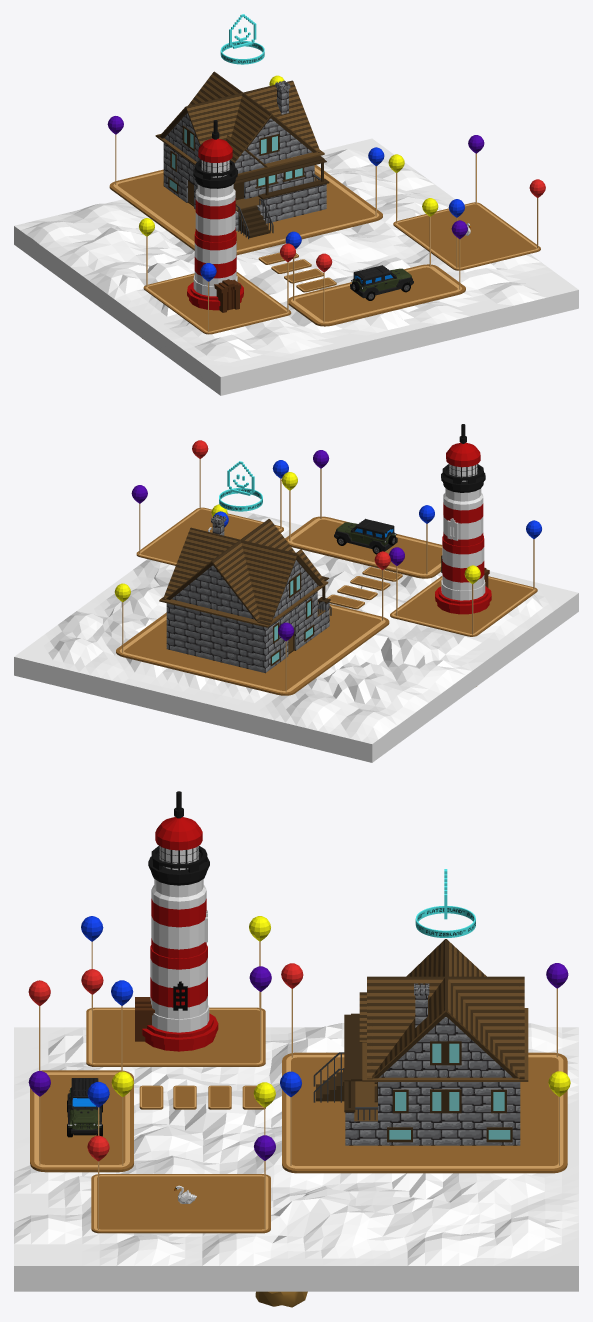
3 renders of one model, top to bottom at view 1: azimuth 30°, elevation 25°; view 2: azimuth 150°, elevation 25°; view 3: azimuth 270°, elevation 25°, orthographic. The views are drawn at different scales.
Visible parts, largest first — view 1: Cube.013, Cube.586, OBJRANDOM_LIGHTHOUSE, VEHICLES_JEEP, TYPE_PREMIUM; view 2: Cube.013, Cube.586, OBJRANDOM_LIGHTHOUSE, VEHICLES_JEEP, TYPE_PREMIUM; view 3: Cube.013, Cube.586, OBJRANDOM_LIGHTHOUSE, VEHICLES_JEEP, TYPE_PREMIUM, UNDERGROUND_T_REX_BONES.
Boxes of the visible parts, left/top/right/bottom form: Cube.013: left=14, top=75, right=578, bottom=395; Cube.586: left=155, top=71, right=329, bottom=239; OBJRANDOM_LIGHTHOUSE: left=187, top=120, right=243, bottom=312; VEHICLES_JEEP: left=350, top=265, right=413, bottom=300; TYPE_PREMIUM: left=220, top=14, right=264, bottom=64; Cube.013: left=14, top=440, right=578, bottom=762; Cube.586: left=159, top=514, right=331, bottom=673; OBJRANDOM_LIGHTHOUSE: left=435, top=424, right=491, bottom=614; VEHICLES_JEEP: left=334, top=518, right=397, bottom=554; TYPE_PREMIUM: left=219, top=461, right=262, bottom=511; Cube.013: left=14, top=916, right=578, bottom=1291; Cube.586: left=313, top=939, right=528, bottom=1145; OBJRANDOM_LIGHTHOUSE: left=135, top=791, right=218, bottom=1051; VEHICLES_JEEP: left=67, top=1078, right=102, bottom=1137; TYPE_PREMIUM: left=415, top=869, right=475, bottom=937; UNDERGROUND_T_REX_BONES: left=255, top=1291, right=307, bottom=1307.
Bounding box in the file's own units: 4000 × 2556 × 4000.
Materials: 36 (3 with a texture image).
